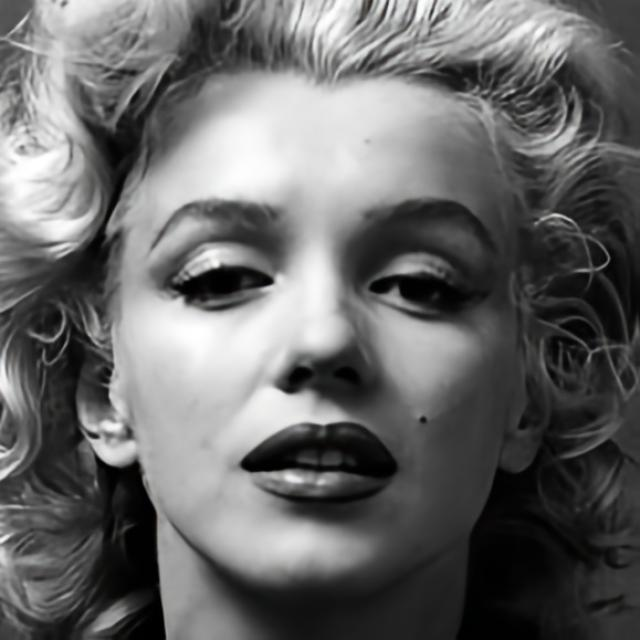neutral: (138, 61, 524, 610)
